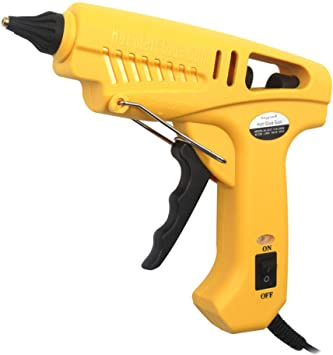Arma Falsa: (1, 2, 331, 331)
